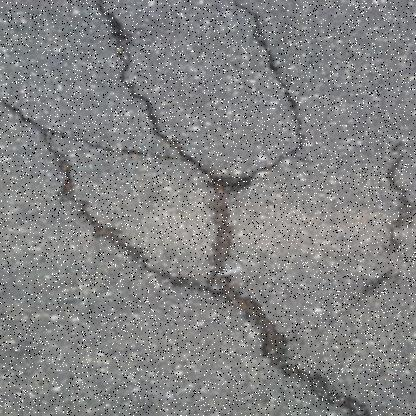Cracks: (0, 0, 310, 290), (209, 286, 415, 415)
